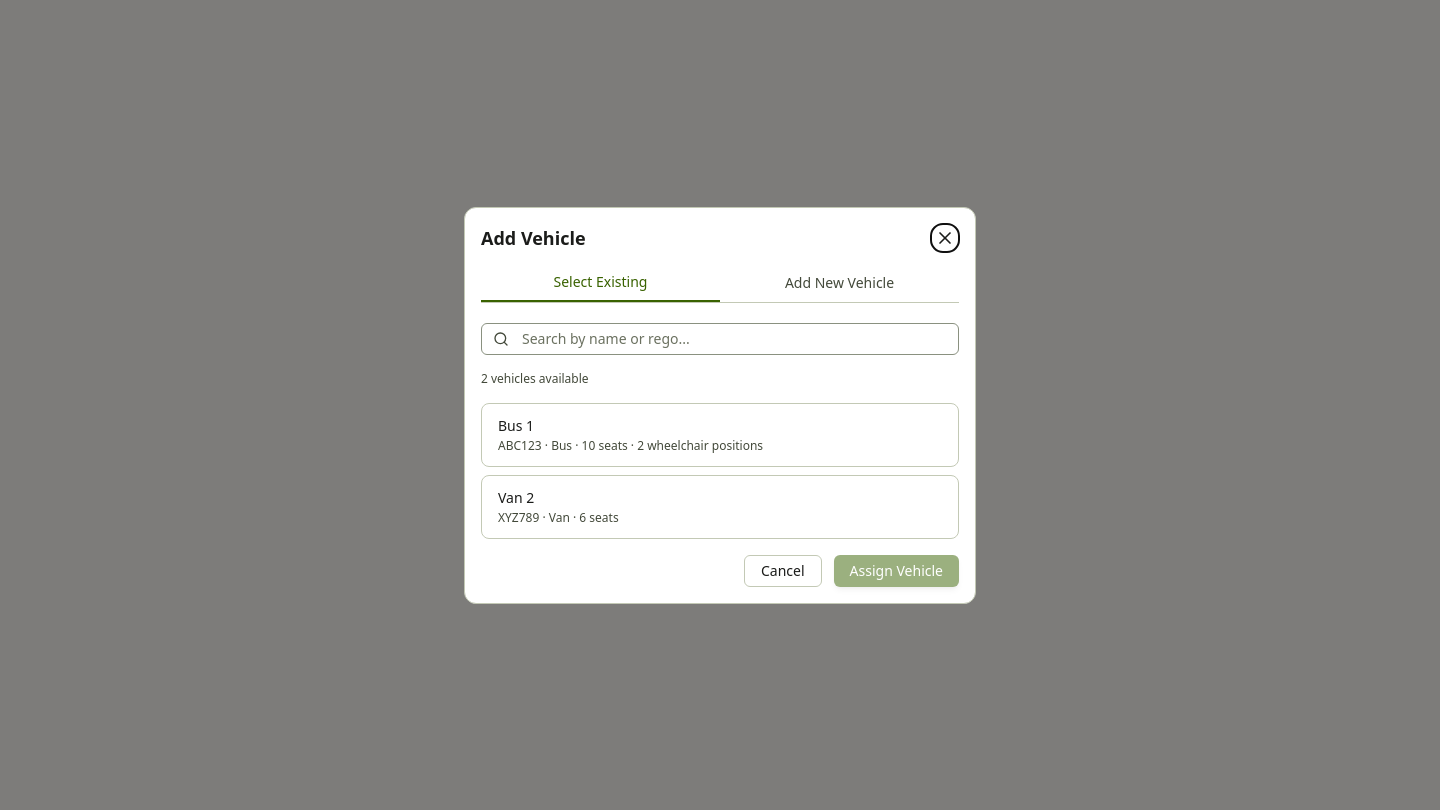
Test: AddVehicleModal — Select Existing live conflict gate (trip-side parity) › runs the live dry-run check with the selected vehicle/trip, rendering a requiresReason finding
The image size is (1440, 810).
Click the text "Bus 1": x=516, y=425 [498,416,534,434]
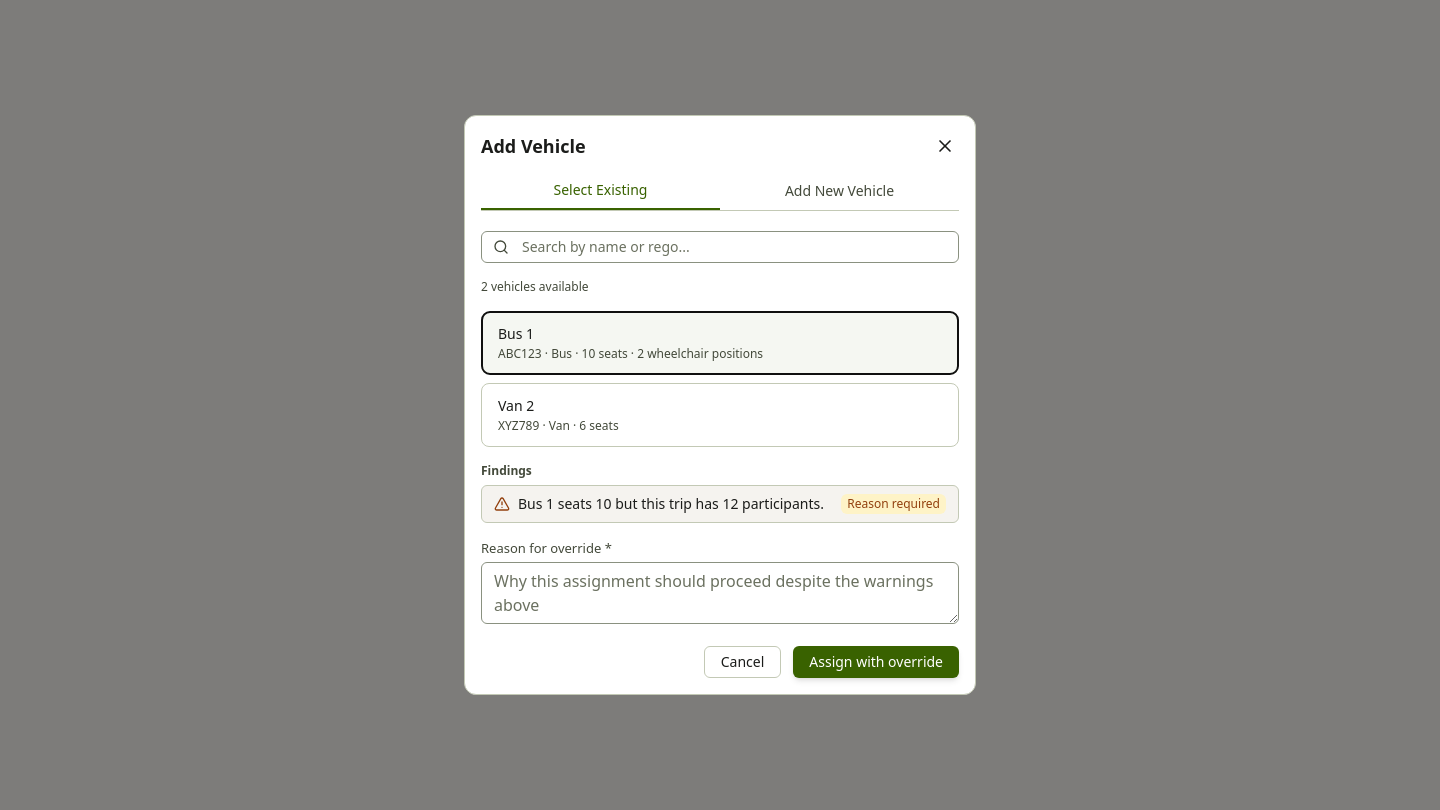
expect the text "Bus 1 seats 10 but this trip has 12 participants." is shown: met, box [518,494,824,514]
expect the text box with placeholder "Why this assignment should proceed" is shown: met, box [481,562,959,624]
